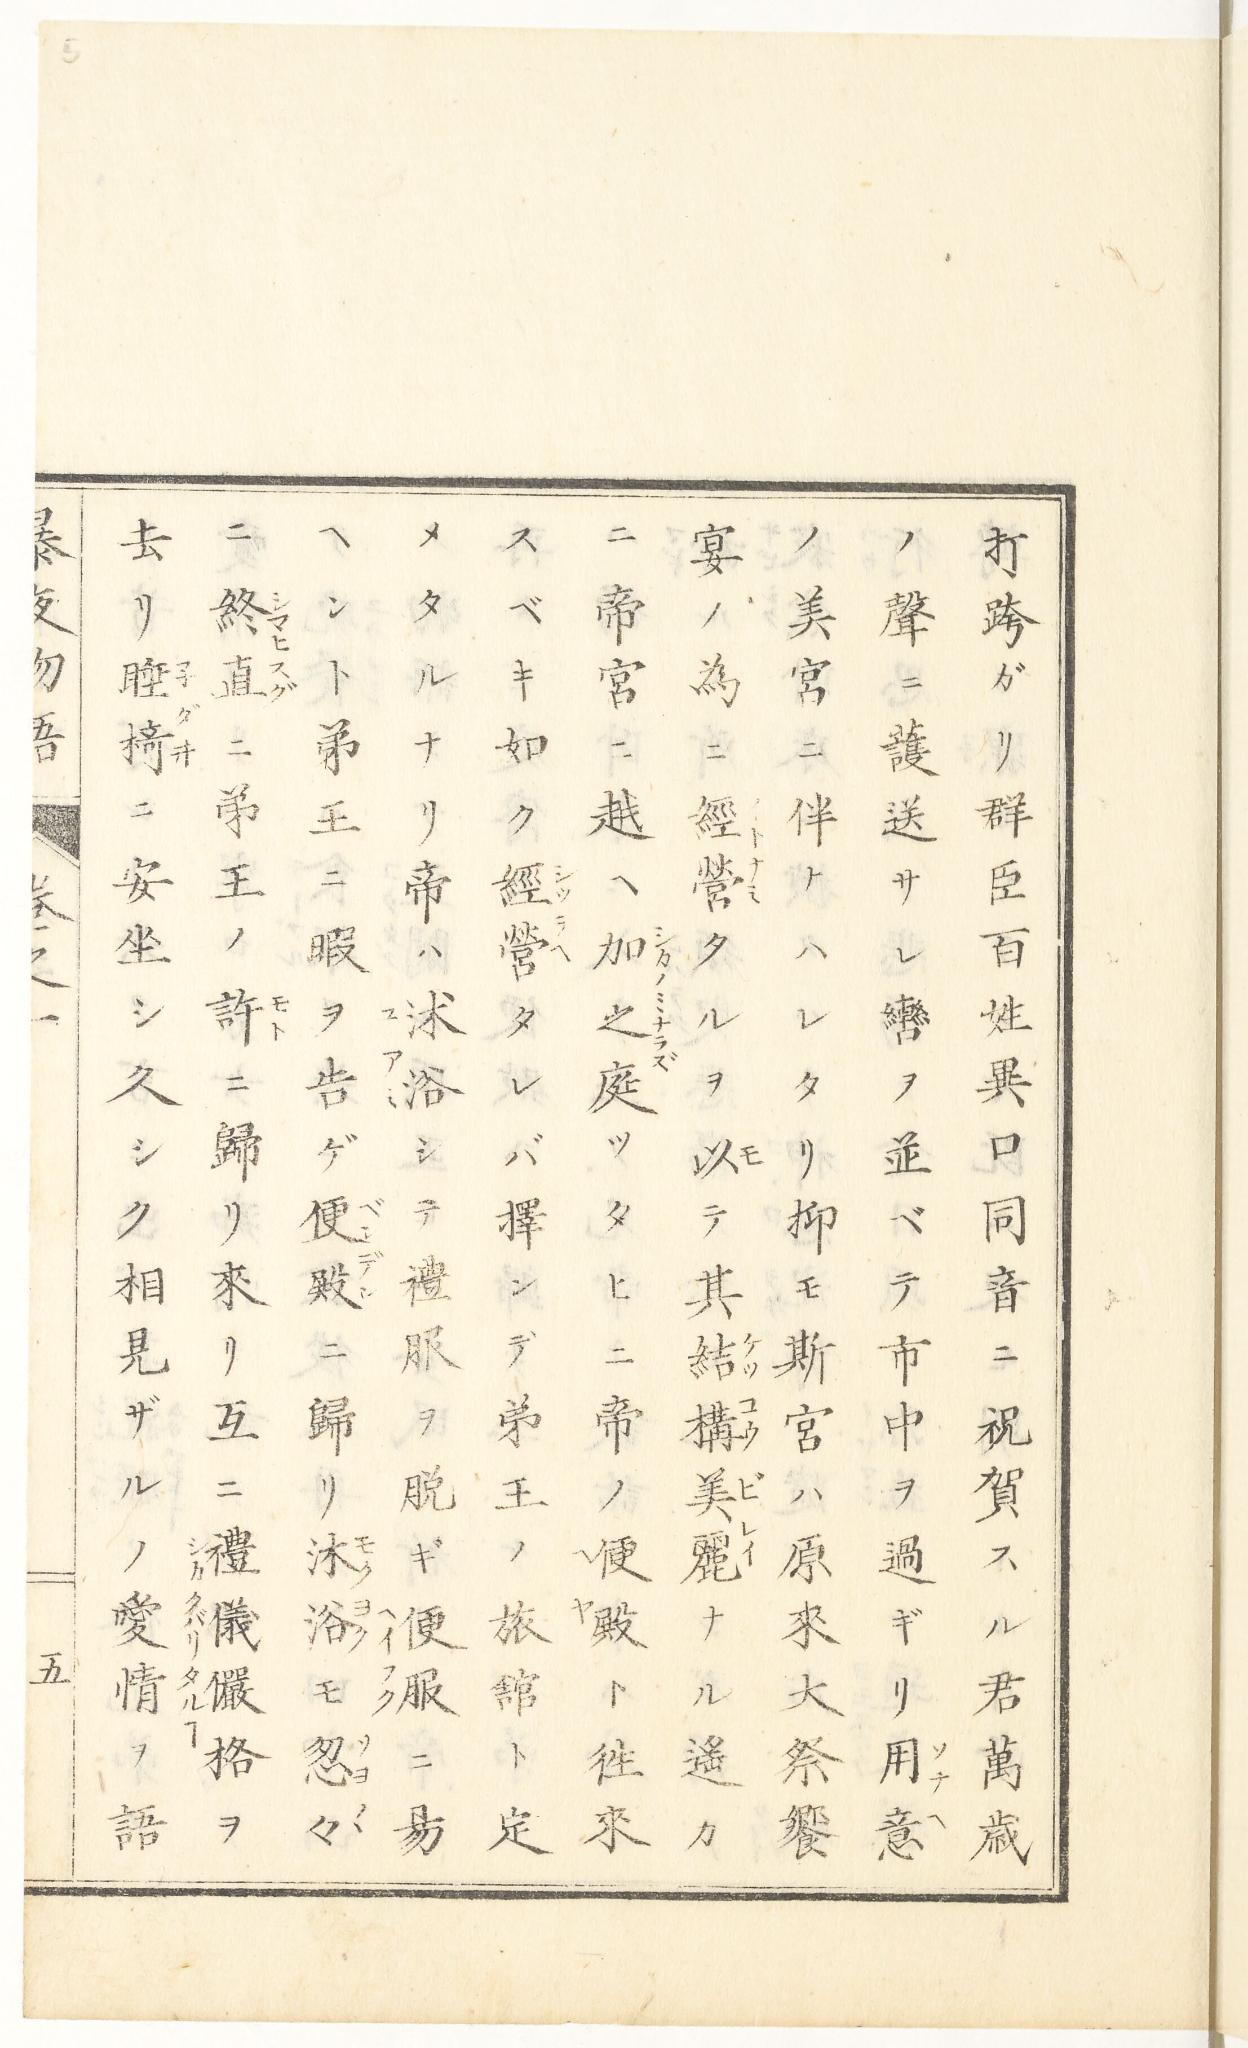MainZone-Character: (113, 702, 203, 778), (676, 1391, 774, 1461), (680, 1520, 761, 1599), (209, 582, 296, 654), (594, 1050, 680, 1122), (584, 992, 680, 1055), (860, 1804, 951, 1870), (293, 1245, 385, 1308), (208, 977, 293, 1044), (595, 920, 679, 987), (685, 1464, 770, 1530), (679, 1129, 764, 1195), (297, 1726, 382, 1792), (875, 1733, 957, 1801), (497, 910, 575, 980), (211, 652, 301, 709), (300, 1189, 391, 1246), (688, 854, 770, 917), (296, 1587, 373, 1652), (674, 1330, 764, 1384), (691, 790, 768, 850), (303, 1527, 380, 1587), (493, 854, 574, 906), (113, 655, 198, 701)
MainZone-Ruby: (171, 702, 203, 772), (266, 585, 298, 652), (351, 1251, 389, 1306), (265, 655, 303, 707), (353, 1191, 388, 1239), (734, 1464, 771, 1508), (348, 1731, 376, 1788), (547, 913, 574, 967), (350, 1533, 377, 1584), (745, 853, 770, 910), (739, 1520, 765, 1573), (737, 1396, 762, 1451), (265, 987, 290, 1043), (651, 923, 673, 986), (648, 995, 672, 1052), (547, 857, 576, 903), (344, 1599, 370, 1647), (931, 1738, 951, 1798), (742, 1131, 767, 1175), (742, 1327, 762, 1379), (173, 652, 198, 695), (749, 788, 762, 850), (651, 1047, 679, 1075), (926, 1810, 950, 1834)
